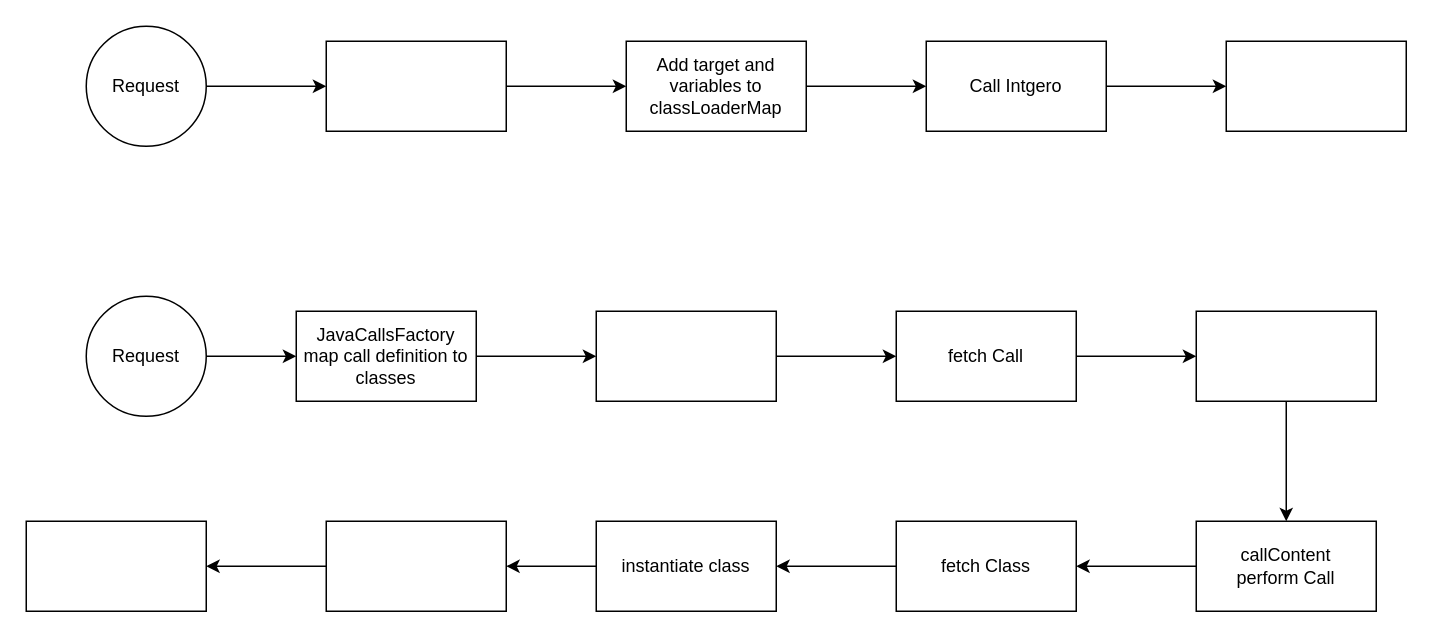
Some shapes in this 1433 by 638 pixel diagram are drawn without their labels. Here are the shapes that lost their labels. From the top down, the centre of each, then its label:
At point (415, 85): "Identify target".
At point (1315, 85): "store results in Result Map".
At point (685, 355): "JavaCalls submitCalls".
At point (1285, 355): "javaCall Perform Call".
At point (415, 565): "fetch Method".
